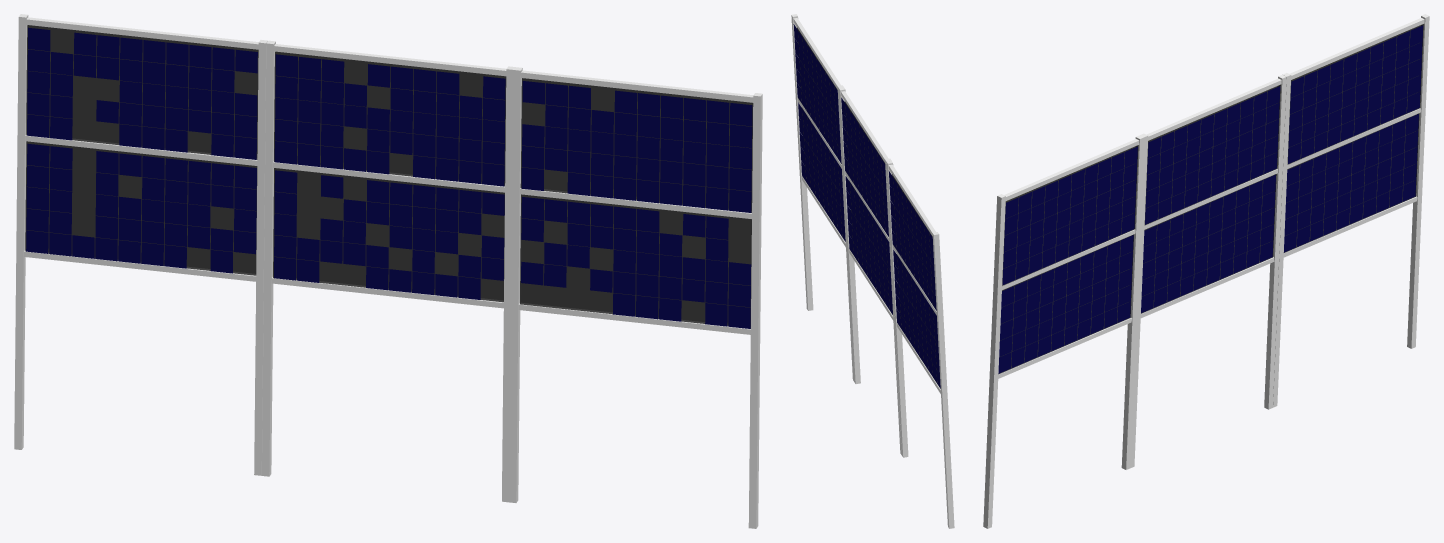
Rendered from w-sun-panel.glb.
The picture shows the model from 3 angles, left to right: view 1: azimuth 30°, elevation 25°; view 2: azimuth 150°, elevation 25°; view 3: azimuth 270°, elevation 25°; orthographic projection. The views are drawn at different scales.
Parts seen in each view (by area): view 1: 立方体.004, 立方体.002, 立方体.001; view 2: 立方体.002, 立方体.004, 立方体.001; view 3: 立方体.004, 立方体.002, 立方体.001.
Part boxes in pixels (x1,y1,x2,y2): 立方体.004: (509, 67, 762, 528); 立方体.002: (14, 14, 267, 475); 立方体.001: (262, 40, 514, 502); 立方体.002: (886, 161, 954, 528); 立方体.004: (791, 14, 854, 381); 立方体.001: (839, 87, 901, 454); 立方体.004: (983, 135, 1144, 528); 立方体.002: (1273, 14, 1429, 407); 立方体.001: (1130, 74, 1286, 468).
Size of the model in its own units: 11.66 by 9.65 by 11.55.
